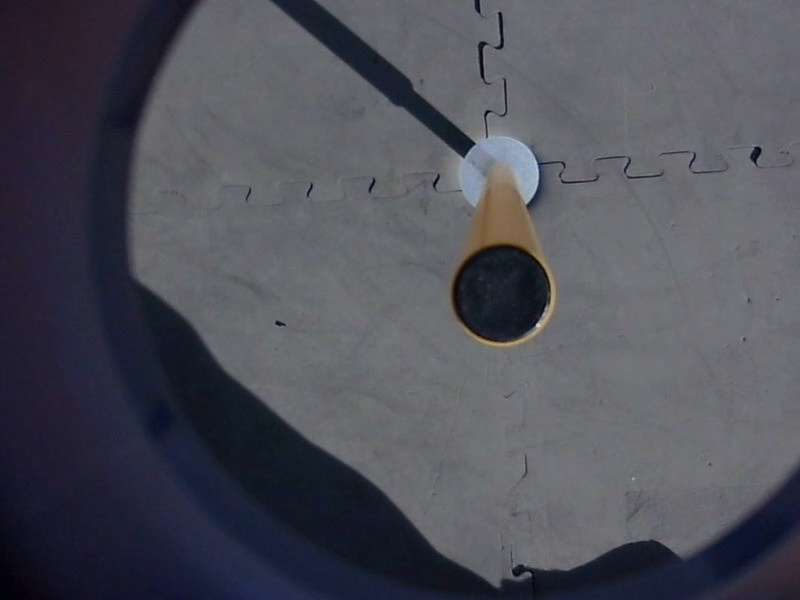tip: (444, 238, 559, 353)
